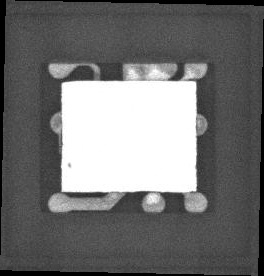DIE_INK: (63, 167, 69, 176)
